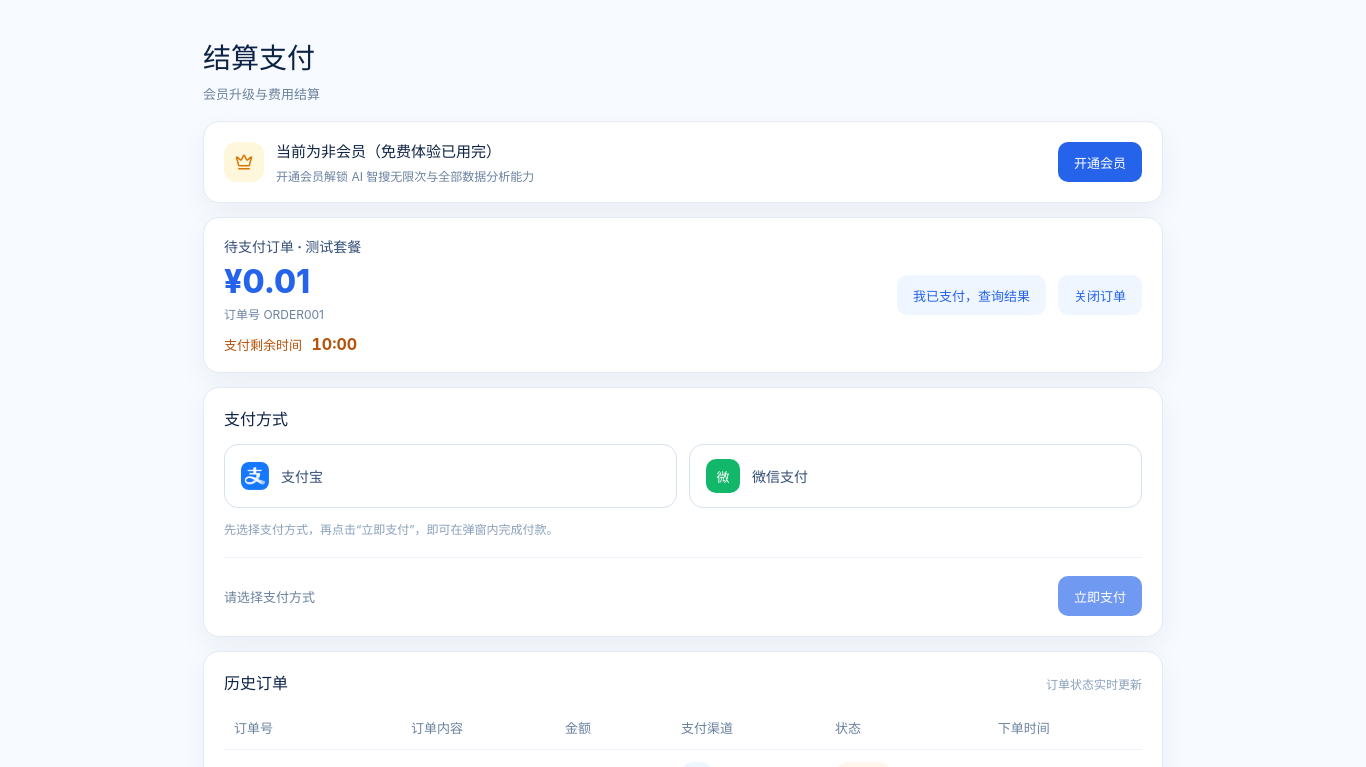
Test case: embedded Alipay cashier › requires selecting a payment method and places payment in the method section
The image size is (1366, 767).
Expected: the text "订单号 ORDER001" is shown, x1=224 y1=307 x2=324 y2=322
Expected: the button "立即支付" is disabled, x1=1058 y1=576 x2=1142 y2=616
Click the button "支付宝" at (302, 477), box x1=224 y1=444 x2=677 y2=508
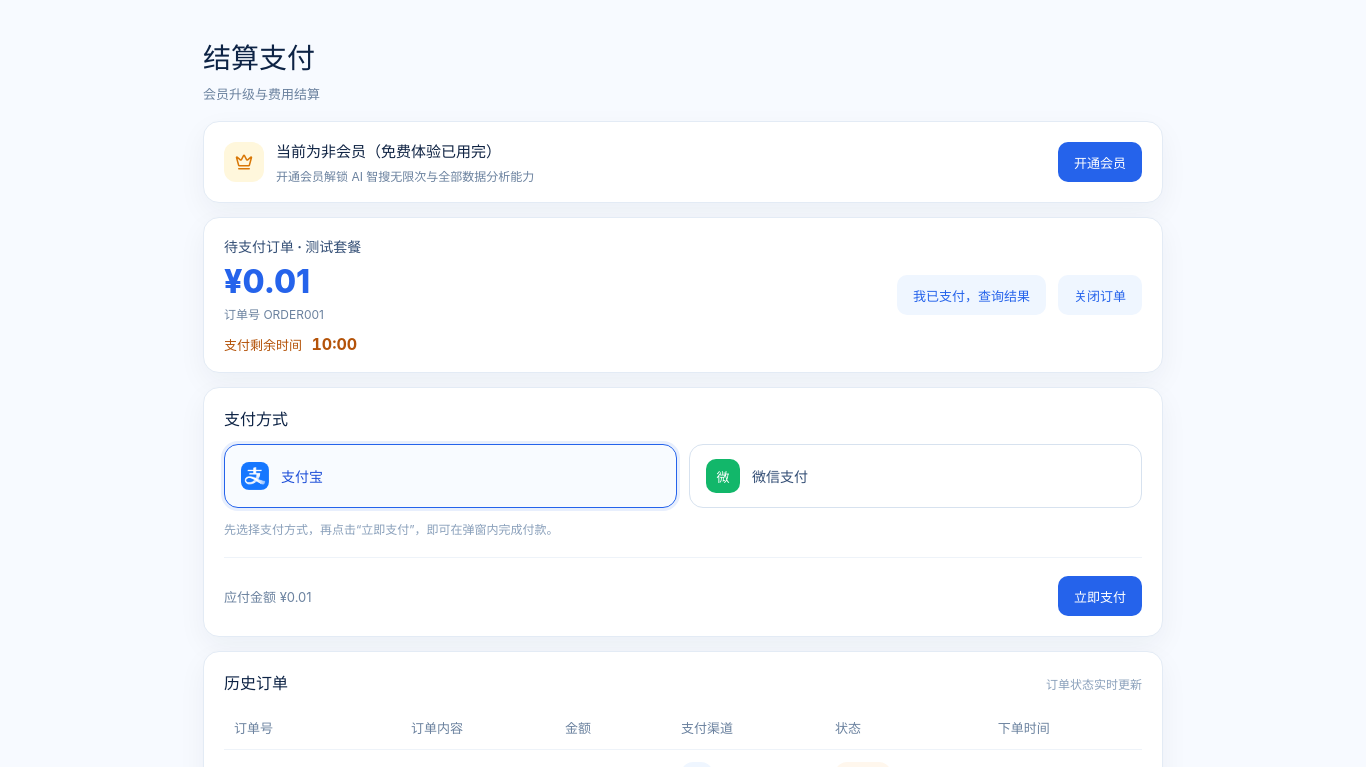
Expected: the element showing "支付剩余时间 10:00" is shown, x1=224 y1=334 x2=361 y2=354
Expected: the button "立即支付" is enabled, x1=1058 y1=576 x2=1142 y2=616
